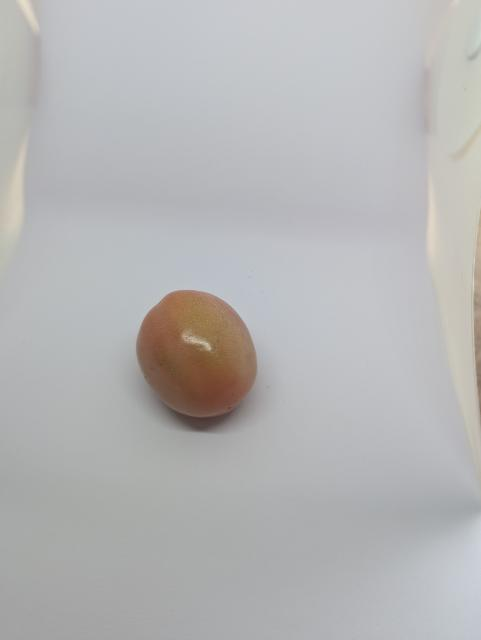turning: (134, 285, 264, 425)
